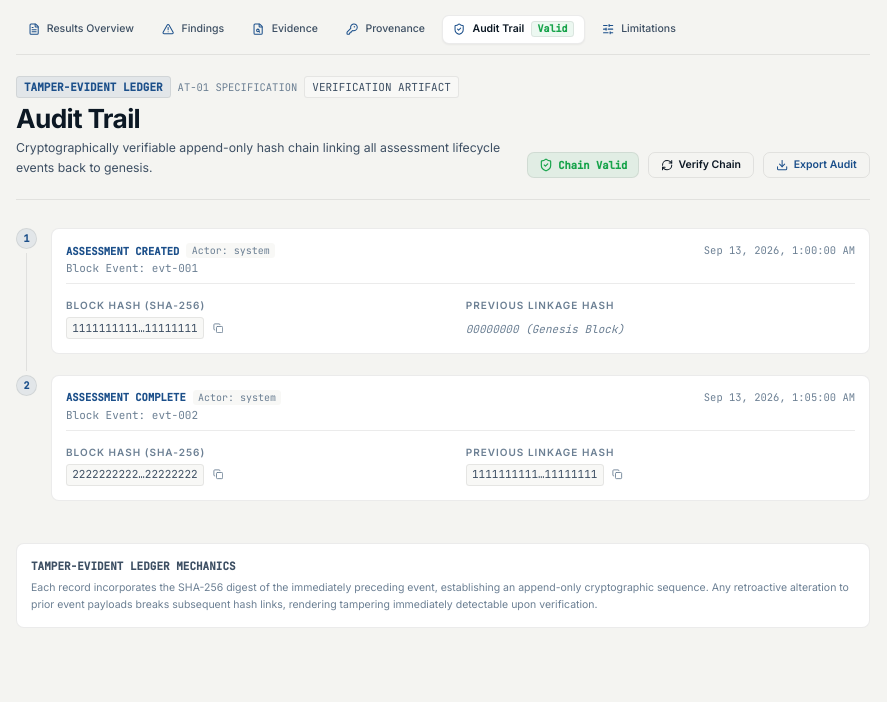
Audit Trail Structured JSON Export Suite › displays error feedback when exportAuditJson fails
The width and height of the screenshot is (887, 702).
Click the button "Export Audit" at (816, 165), box top-left (763, 152), bottom-right (870, 178)
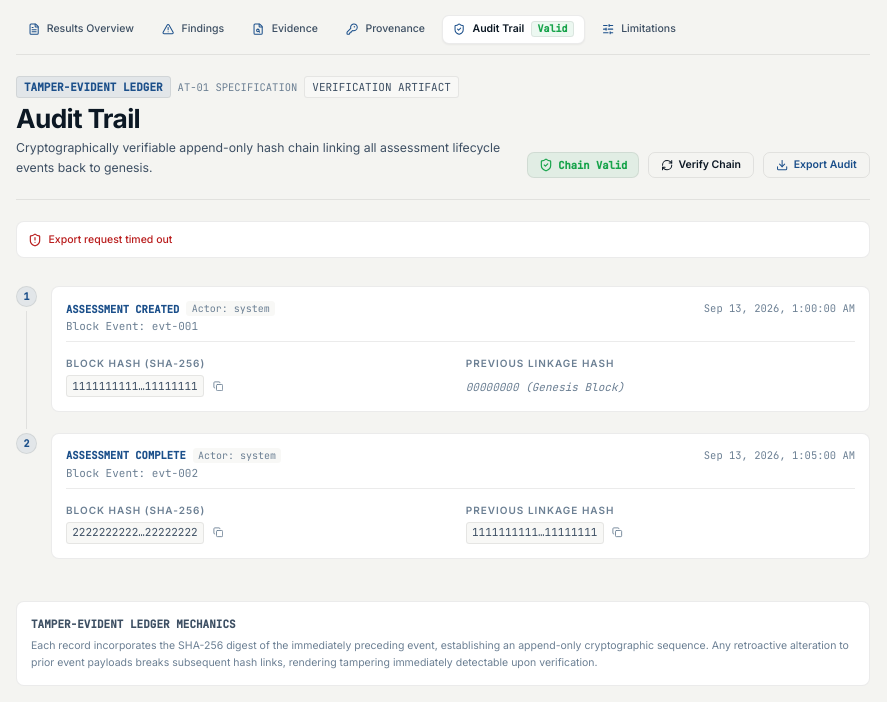
Expected: the text "Export request timed out" is shown, top-left (48, 233), bottom-right (172, 247)
